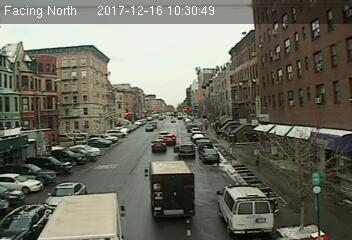car: (43, 182, 87, 210), (201, 147, 220, 162), (178, 142, 196, 157), (150, 139, 168, 152)
police: (217, 180, 275, 235)
ups: (144, 161, 198, 223)
